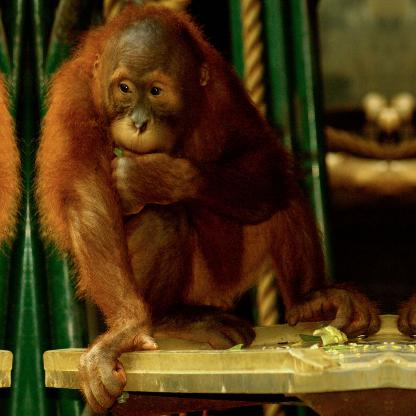Monkey: (34, 5, 382, 414)
